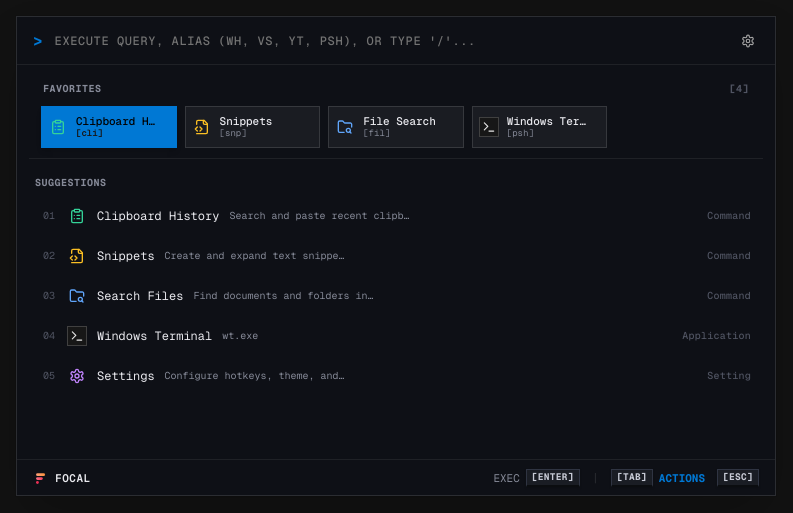
App Integration & Command Palette Shell › transitions into subsystem view when executing a view command
The width and height of the screenshot is (793, 513).
Step 1. Double-click the option that starts with "Clipboard History" → (397, 216), box [43,208,751,224]
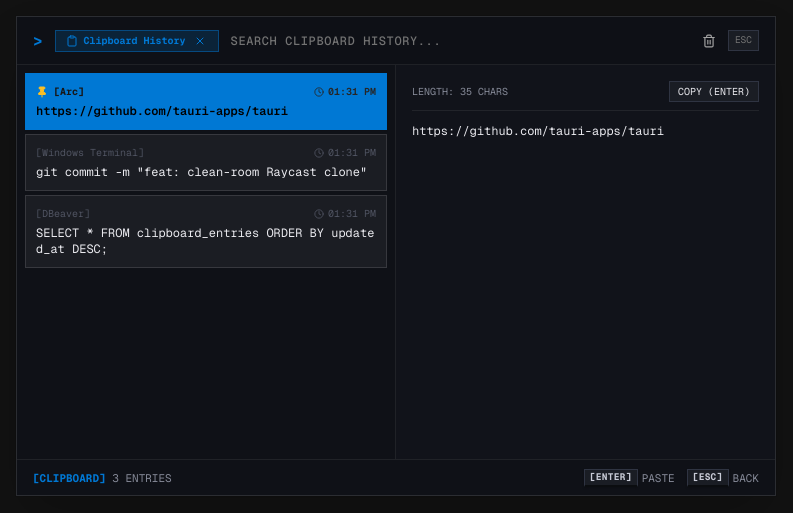
Note: Press Esc to return to root
Step 2. Press Escape
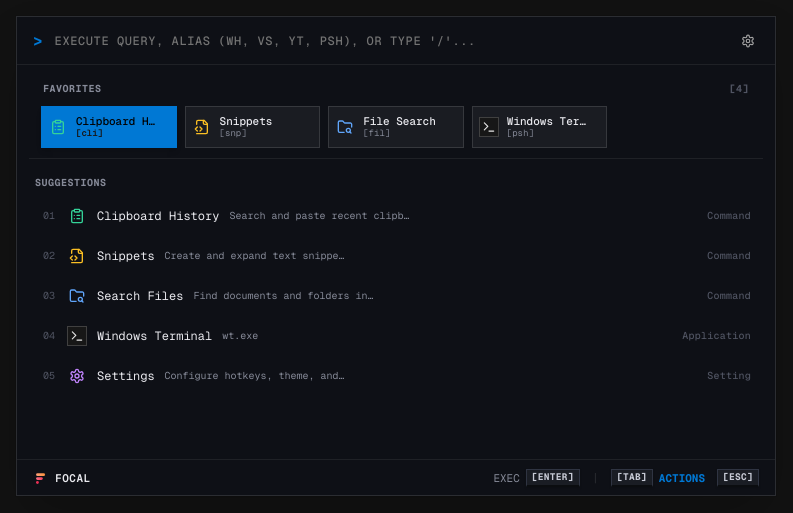
Check: the field with placeholder "EXECUTE QUERY, ALIAS (wh, vs, yt, psh), OR TYPE '/'..." is shown, box [55,32,725,48]
